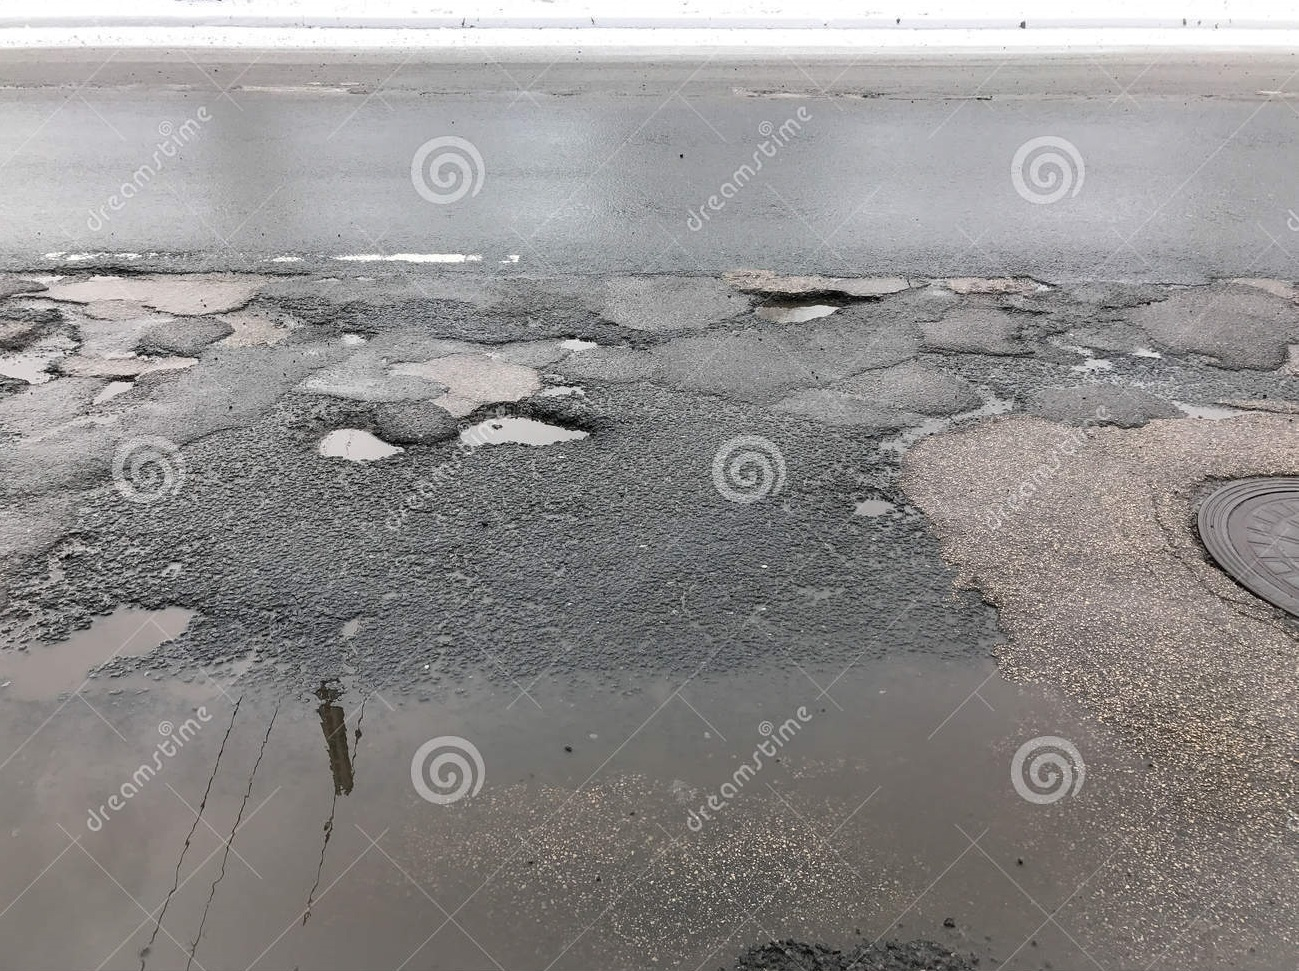pothole: (11, 596, 1176, 971), (443, 406, 587, 457), (313, 411, 397, 467), (72, 341, 143, 396), (748, 300, 856, 333)
